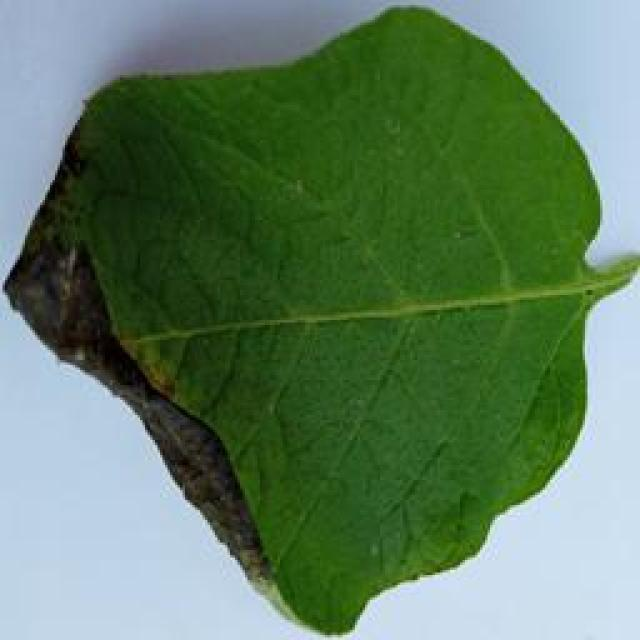Potato_Late_Blight: (6, 6, 630, 635)
